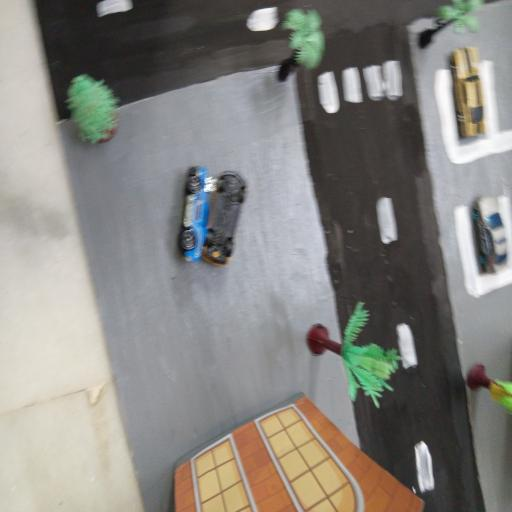car crash: (175, 156, 254, 278), (178, 160, 212, 268), (215, 169, 248, 267)
